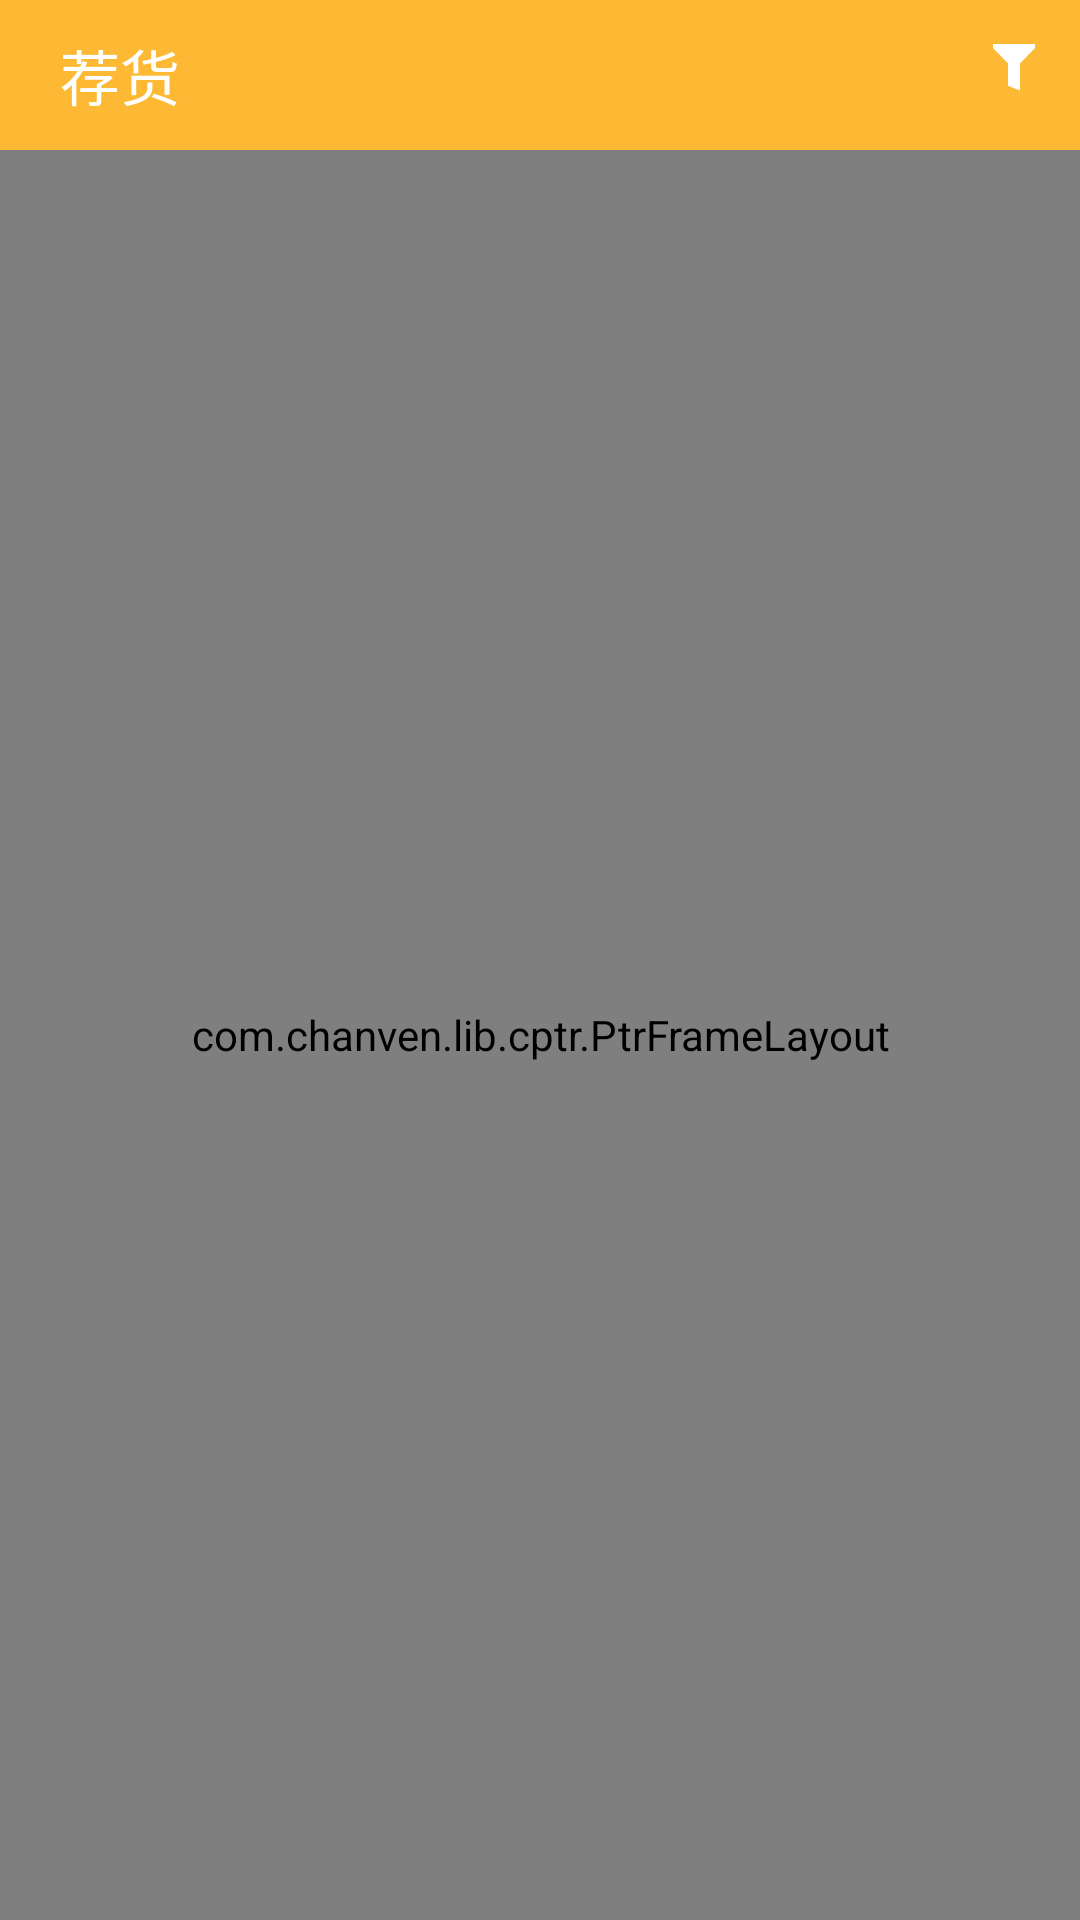

Where icons sit on this 1080px x 1920px app screen, as (x1, y1, x2, y2):
filter: (993, 44, 1035, 91)
